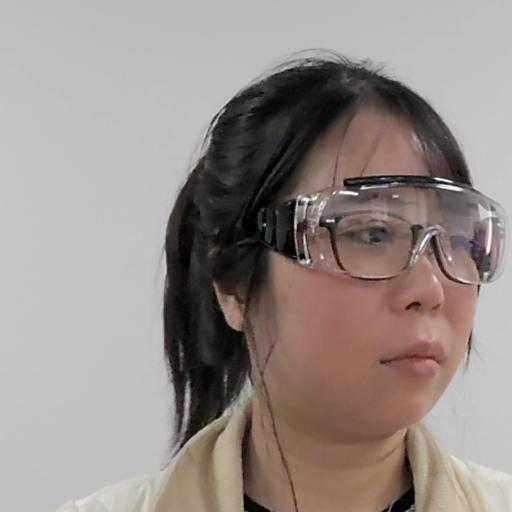glasses: (180, 67, 512, 437)
